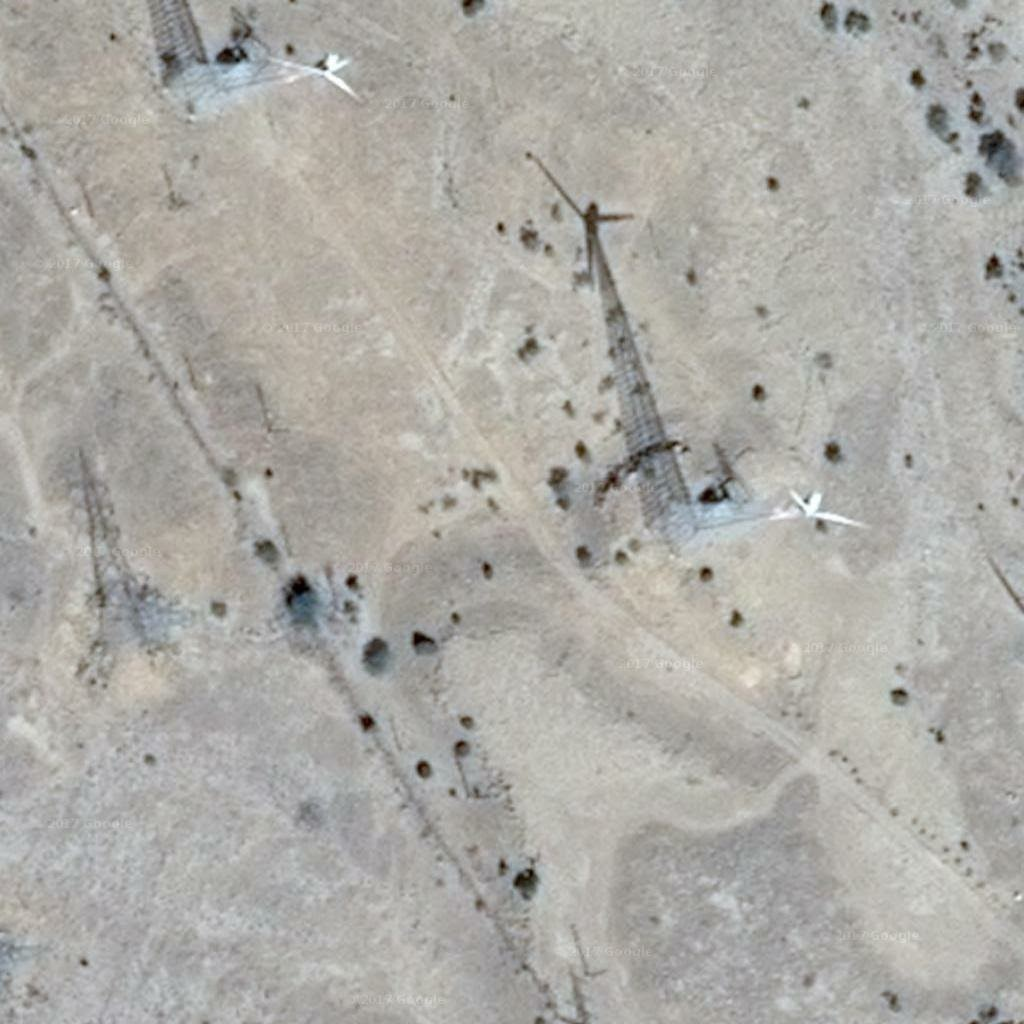Windmill: (520, 146, 716, 544)
